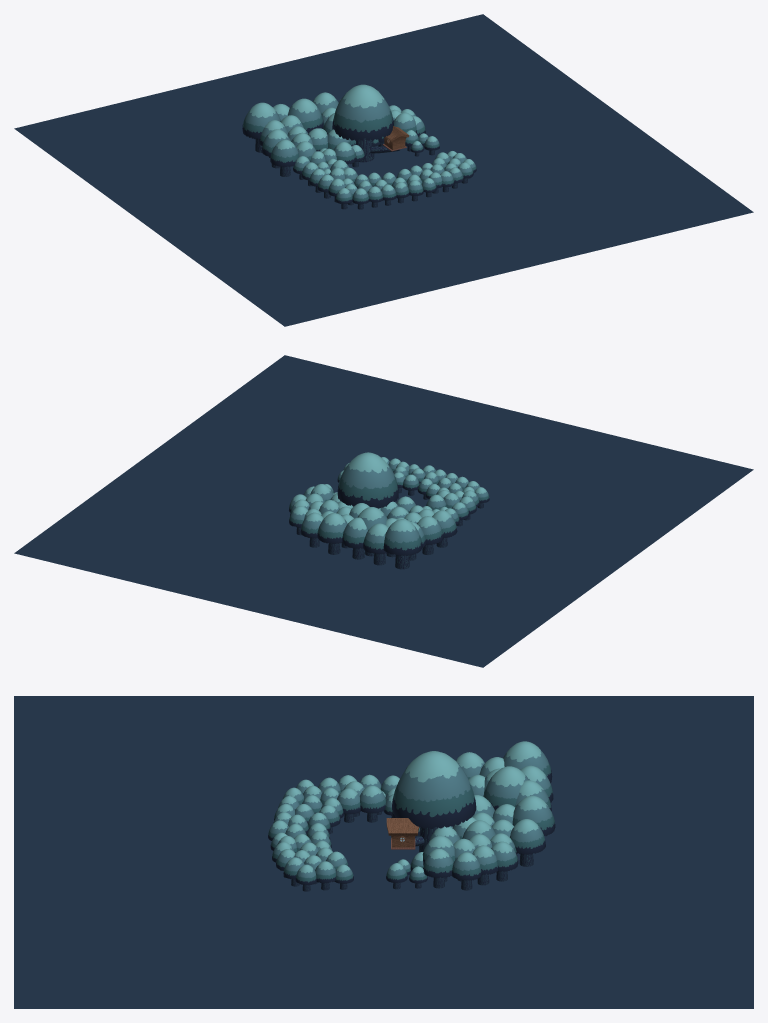
Rendered from Treehouse Area.glb.
The picture shows the model from 3 angles, top to bottom: view 1: azimuth 30°, elevation 25°; view 2: azimuth 150°, elevation 25°; view 3: azimuth 270°, elevation 25°; orthographic projection. The views are drawn at different scales.
Visible parts, largest first — view 1: Ground, Placeholder Treehouse, Placeholder Tree.646, Placeholder Tree.647, Placeholder Tree.1227; view 2: Ground, Placeholder Treehouse, Placeholder Tree.646, Placeholder Tree.1232, Placeholder Tree.1225, Placeholder Tree.1226, Placeholder Tree.1228, Placeholder Tree.650; view 3: Ground, Placeholder Treehouse, Placeholder Tree.647, Placeholder Tree.650, Placeholder Tree.646, Placeholder Tree.1232, Placeholder Tree.637, Placeholder Tree.1239, Placeholder Tree.610, Placeholder Tree.1237, Placeholder Tree.1238, Placeholder Tree.612 (+1 smaller).
Part boxes in pixels (x1,y1,x2,y2): Ground: (14,14,753,326); Placeholder Treehouse: (332,84,393,162); Placeholder Tree.646: (242,102,280,152); Placeholder Tree.647: (288,98,323,133); Placeholder Tree.1227: (270,139,298,176); Ground: (14,355,753,667); Placeholder Treehouse: (337,452,398,508); Placeholder Tree.646: (383,519,422,569); Placeholder Tree.1232: (317,513,347,554); Placeholder Tree.1225: (342,517,367,559); Placeholder Tree.1226: (363,523,388,565); Placeholder Tree.1228: (417,516,443,554); Placeholder Tree.650: (300,512,323,547); Ground: (14,696,753,1008); Placeholder Treehouse: (392,751,476,852); Placeholder Tree.647: (483,766,528,810); Placeholder Tree.650: (510,819,545,866); Placeholder Tree.646: (503,741,552,782); Placeholder Tree.1232: (512,795,555,835); Placeholder Tree.637: (423,848,453,888); Placeholder Tree.1239: (452,852,481,890); Placeholder Tree.610: (360,785,386,822); Placeholder Tree.1237: (491,841,518,881); Placeholder Tree.1238: (472,845,497,885); Placeholder Tree.612: (337,788,360,822).
Bounding box in the file's own units: 100 × 14.81 × 100.
Materials: 6 (4 with a texture image).
